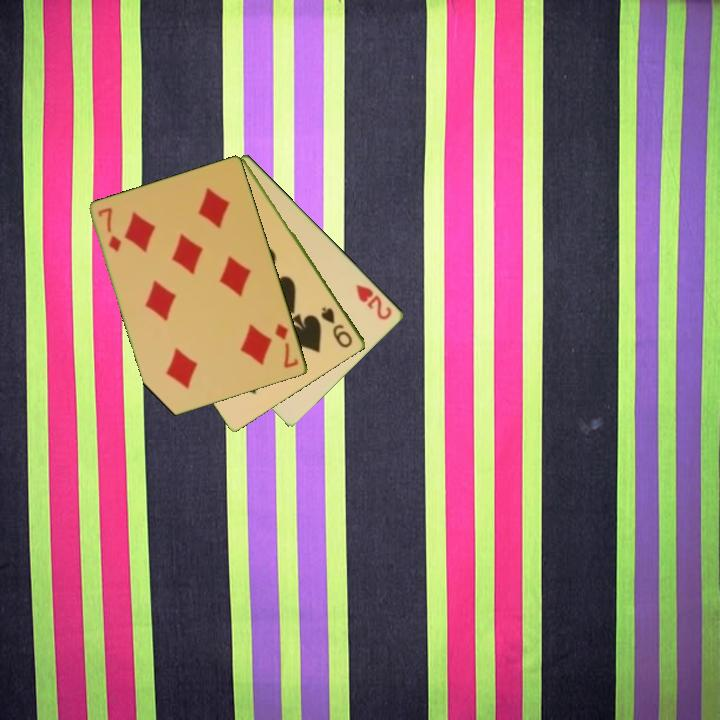2h: (353, 281, 395, 323)
7d: (94, 204, 125, 255), (272, 320, 302, 371)
9s: (318, 303, 356, 351)
